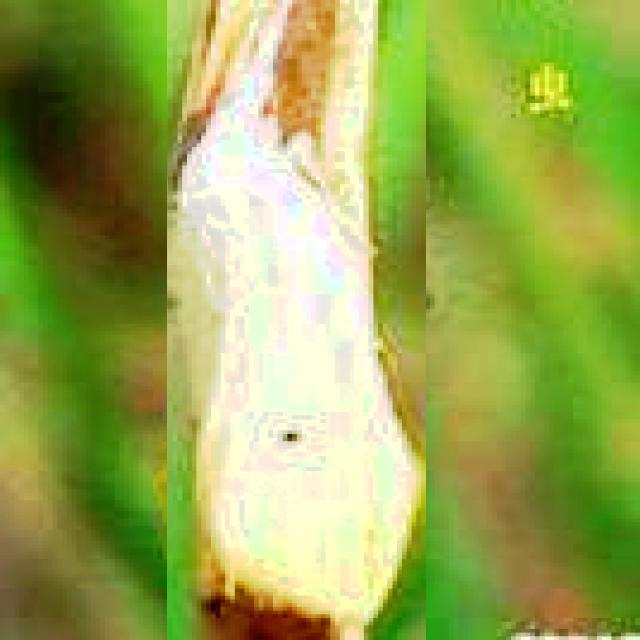stem-borer: (167, 0, 426, 640)
